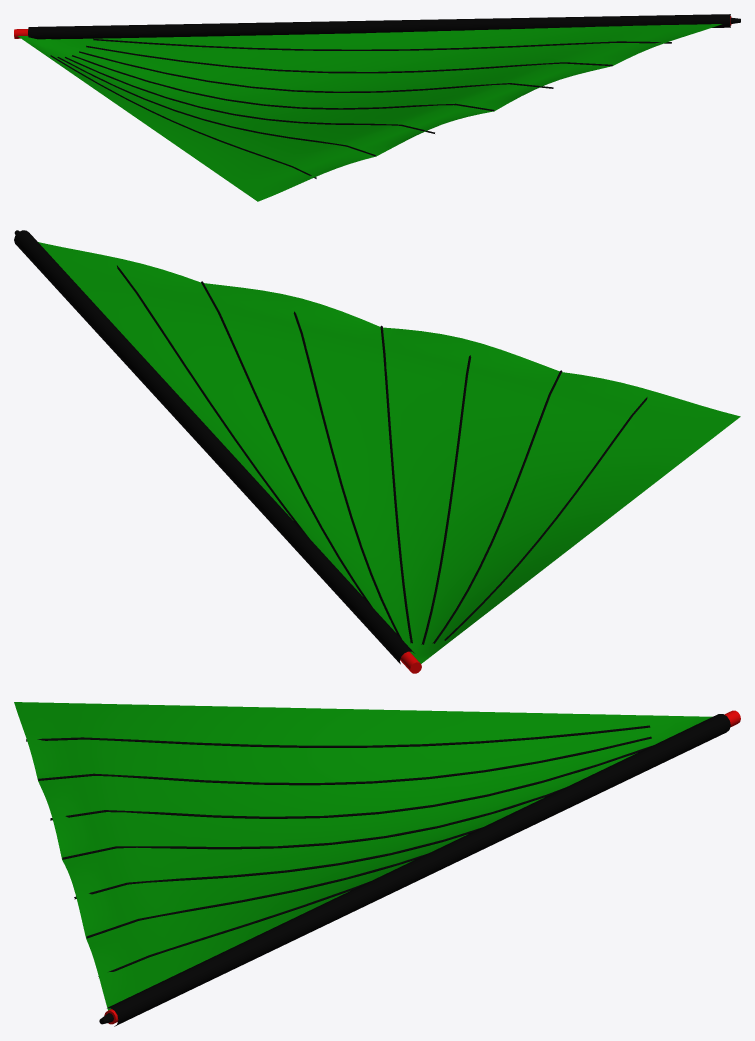
Rendered from glider_right.glb.
The picture shows the model from 3 angles, top to bottom: view 1: azimuth 30°, elevation 25°; view 2: azimuth 150°, elevation 25°; view 3: azimuth 270°, elevation 25°; orthographic projection. The views are drawn at different scales.
Visible parts, largest first — view 1: glider_right; view 2: glider_right; view 3: glider_right.
Part boxes in pixels (x1,y1,x2,y2): glider_right: (14, 14, 740, 201); glider_right: (14, 230, 740, 673); glider_right: (14, 702, 740, 1026).
Size of the model in its own units: 3.67 by 0.4854 by 3.02.
